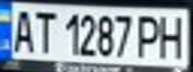1: (57, 9, 81, 56)
2: (78, 10, 96, 57)
7: (112, 11, 136, 58)
8: (97, 11, 118, 57)
A: (6, 6, 39, 54)
H: (154, 11, 190, 60)
P: (133, 11, 163, 58)
T: (30, 7, 57, 54)
